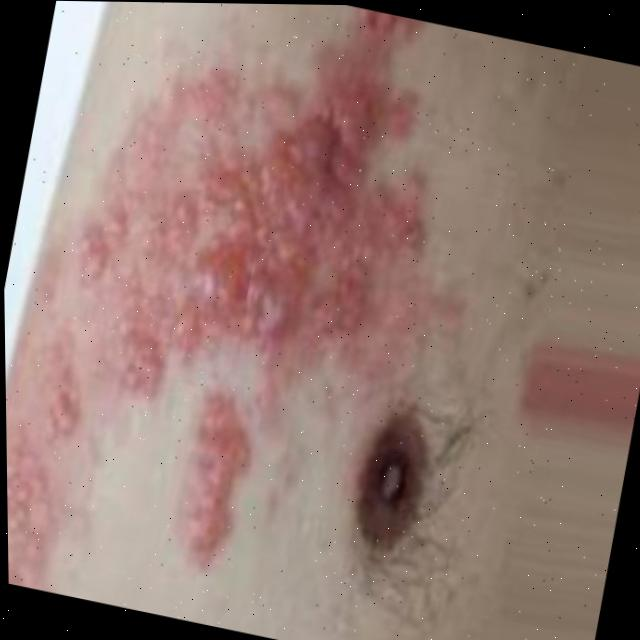Shingles: (67, 33, 425, 419), (162, 400, 286, 579), (5, 357, 100, 571)
